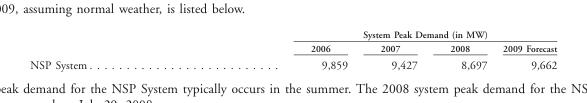table: (29, 28, 556, 71)
table column: (29, 28, 200, 71), (200, 28, 363, 71), (363, 28, 433, 71), (494, 28, 556, 71), (433, 28, 494, 71)
table column header: (29, 28, 556, 56)
table row: (29, 41, 556, 56), (29, 56, 556, 71), (29, 28, 556, 41)
table spanning cell: (200, 28, 556, 41)
